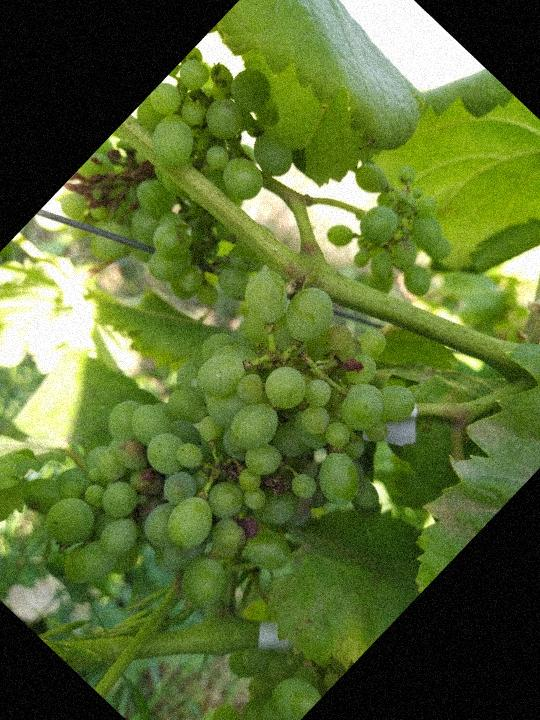grape: (0, 222, 469, 706), (45, 28, 363, 348), (300, 139, 483, 321)
